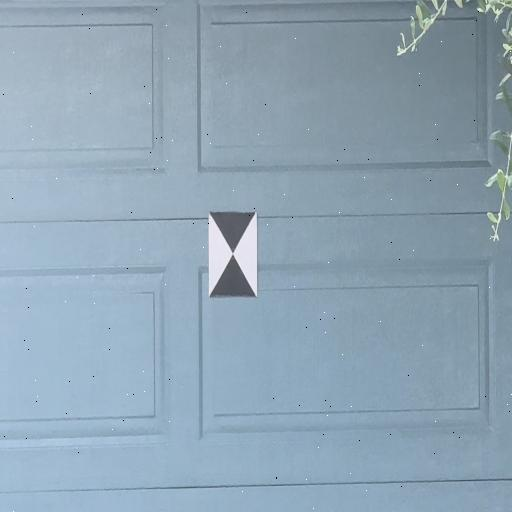target: (210, 213, 256, 297)
